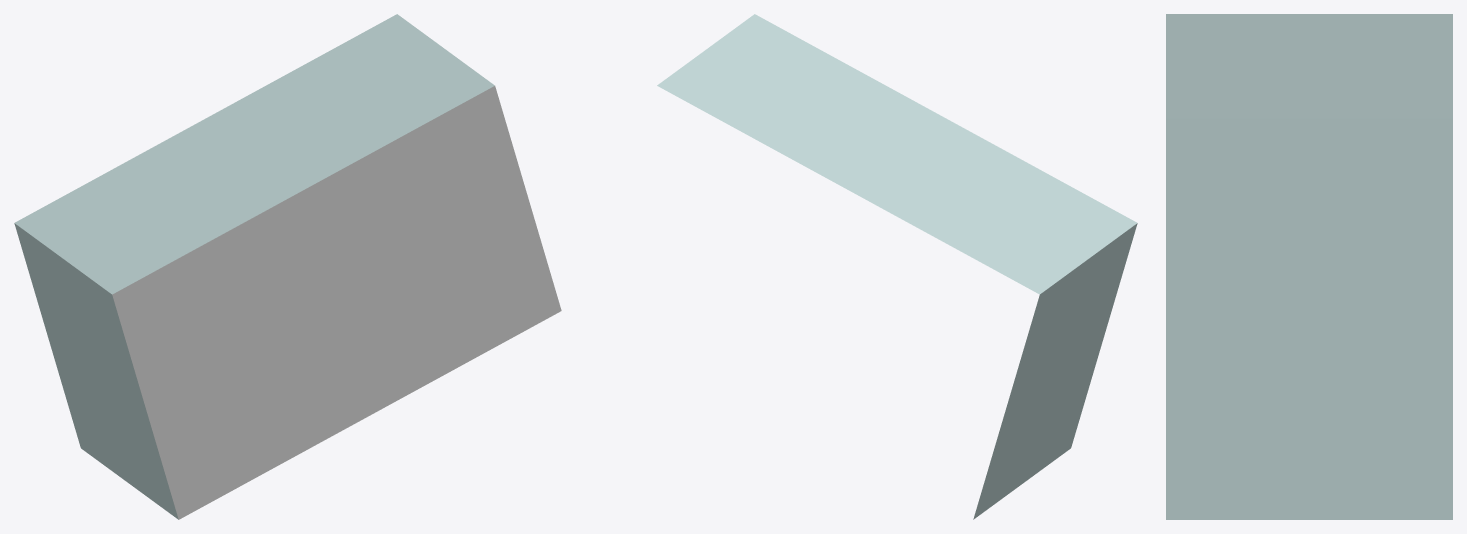
3 renders of one model, left to right at view 1: azimuth 30°, elevation 25°; view 2: azimuth 150°, elevation 25°; view 3: azimuth 270°, elevation 25°, orthographic. The views are drawn at different scales.
Visible parts, largest first — view 1: 0_1_0_1_0_1_1_1_1; view 2: 0_1_0_1_0_1_1_1_1; view 3: 0_1_0_1_0_1_1_1_1.
Part boxes in pixels (x1,y1,x2,y2): 0_1_0_1_0_1_1_1_1: [14, 14, 561, 519]; 0_1_0_1_0_1_1_1_1: [657, 14, 1137, 519]; 0_1_0_1_0_1_1_1_1: [1166, 14, 1452, 519].
Size of the model in its own units: 7.95 by 6.04 by 3.
